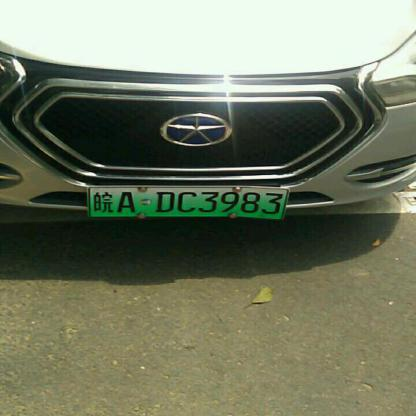lp: (90, 186, 287, 219)
